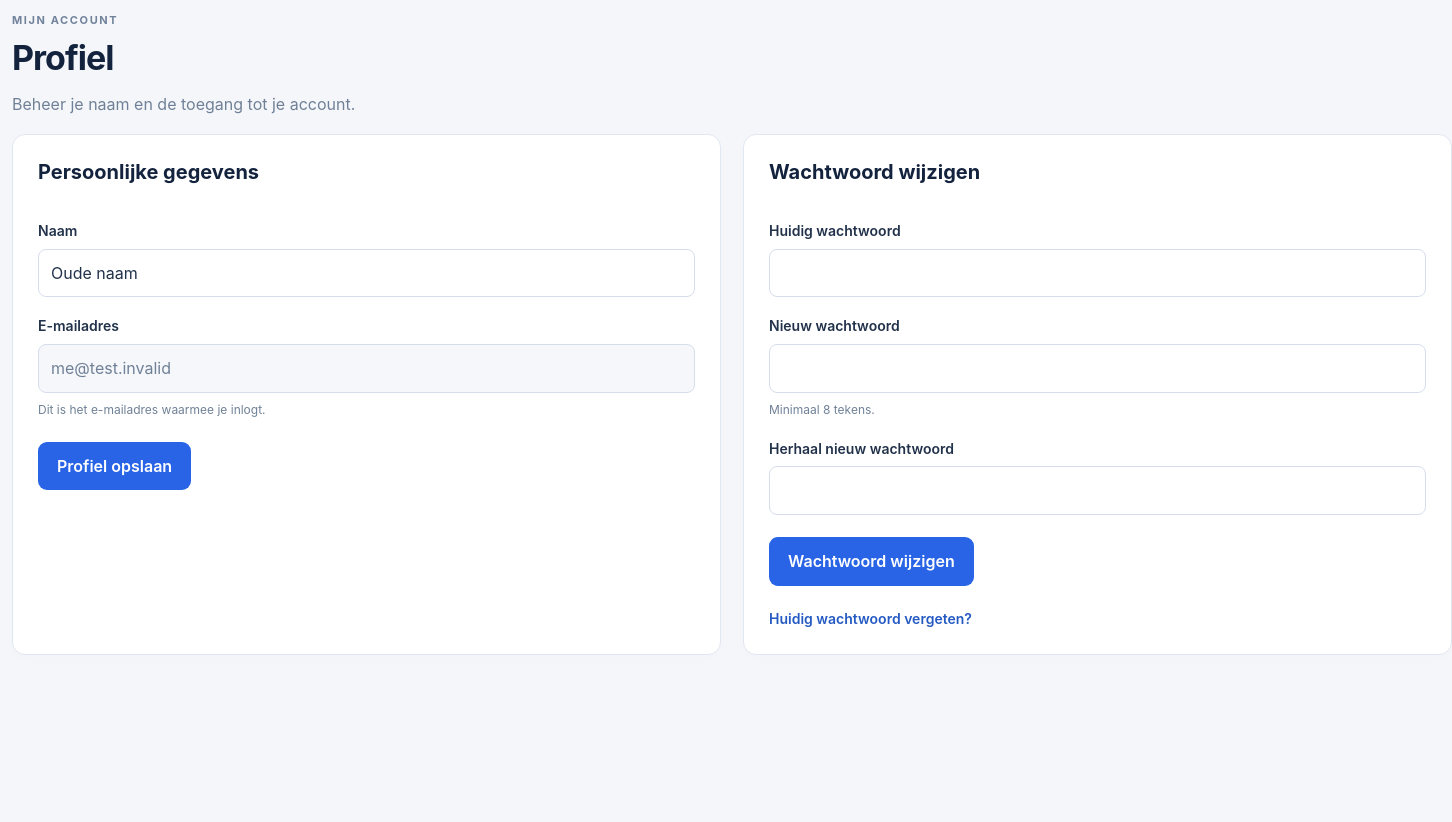
checks the current password before changing it
The width and height of the screenshot is (1452, 822).
Check: the field labelled "Naam" is shown, box [38, 249, 695, 297]
Type "wrong-secret" into the password field labelled "Huidig wachtwoord" at (1098, 273), box [769, 249, 1426, 297]
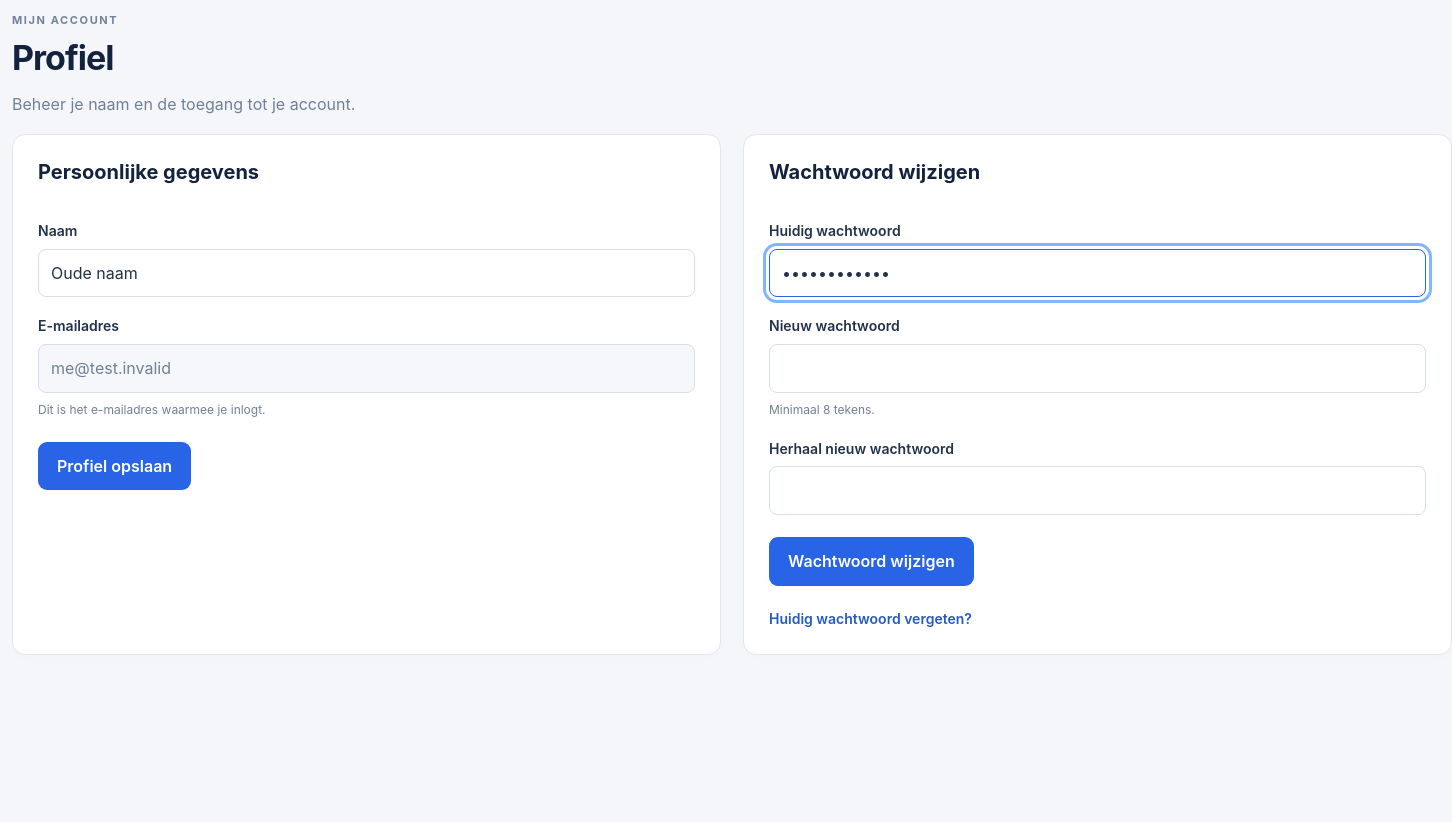
Type "new-secret" into the password field labelled "Nieuw wachtwoord" at (1098, 368), box [769, 344, 1426, 393]
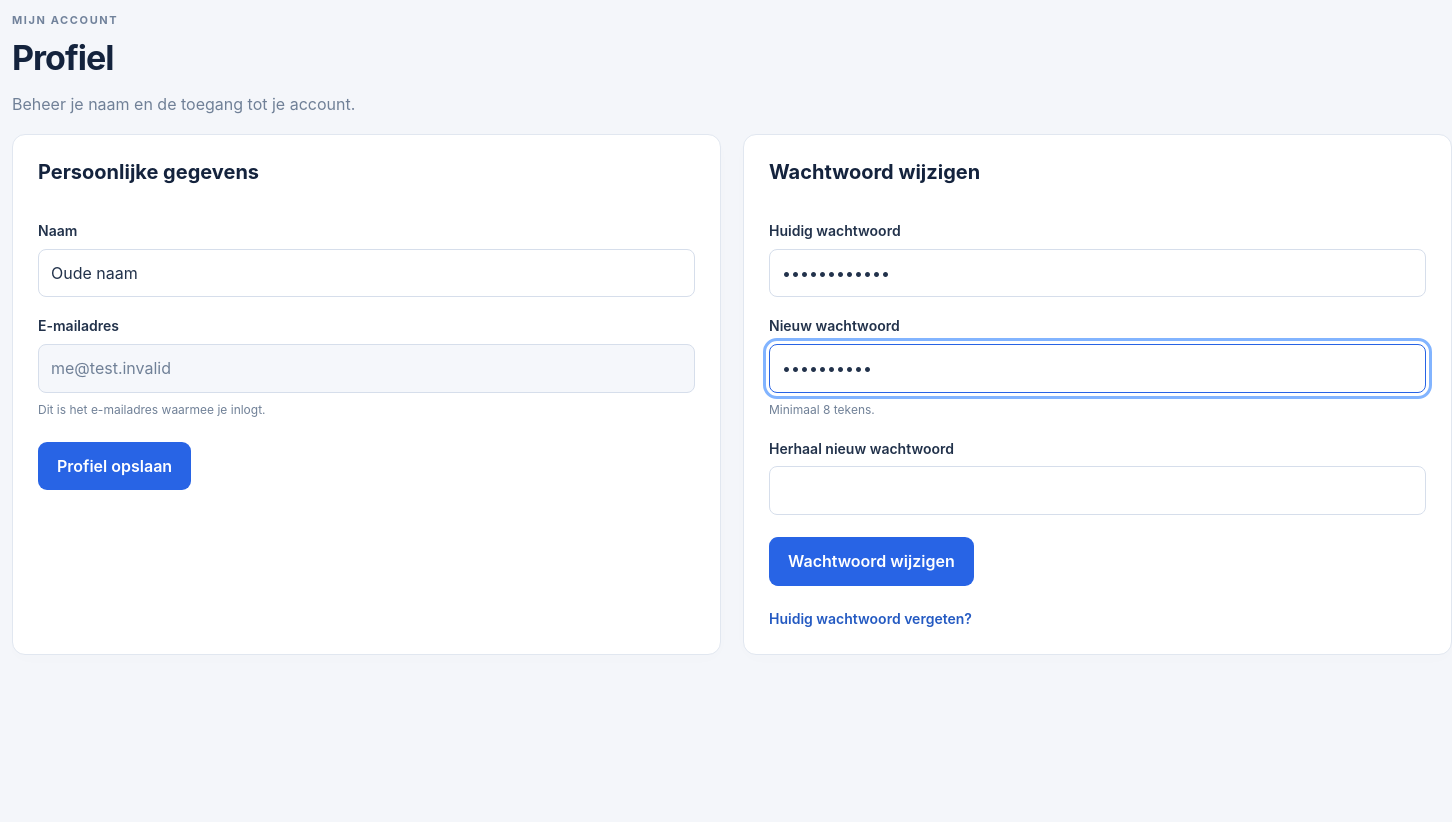
Type "new-secret" into the password field labelled "Herhaal nieuw wachtwoord" at (1098, 491), box [769, 466, 1426, 515]
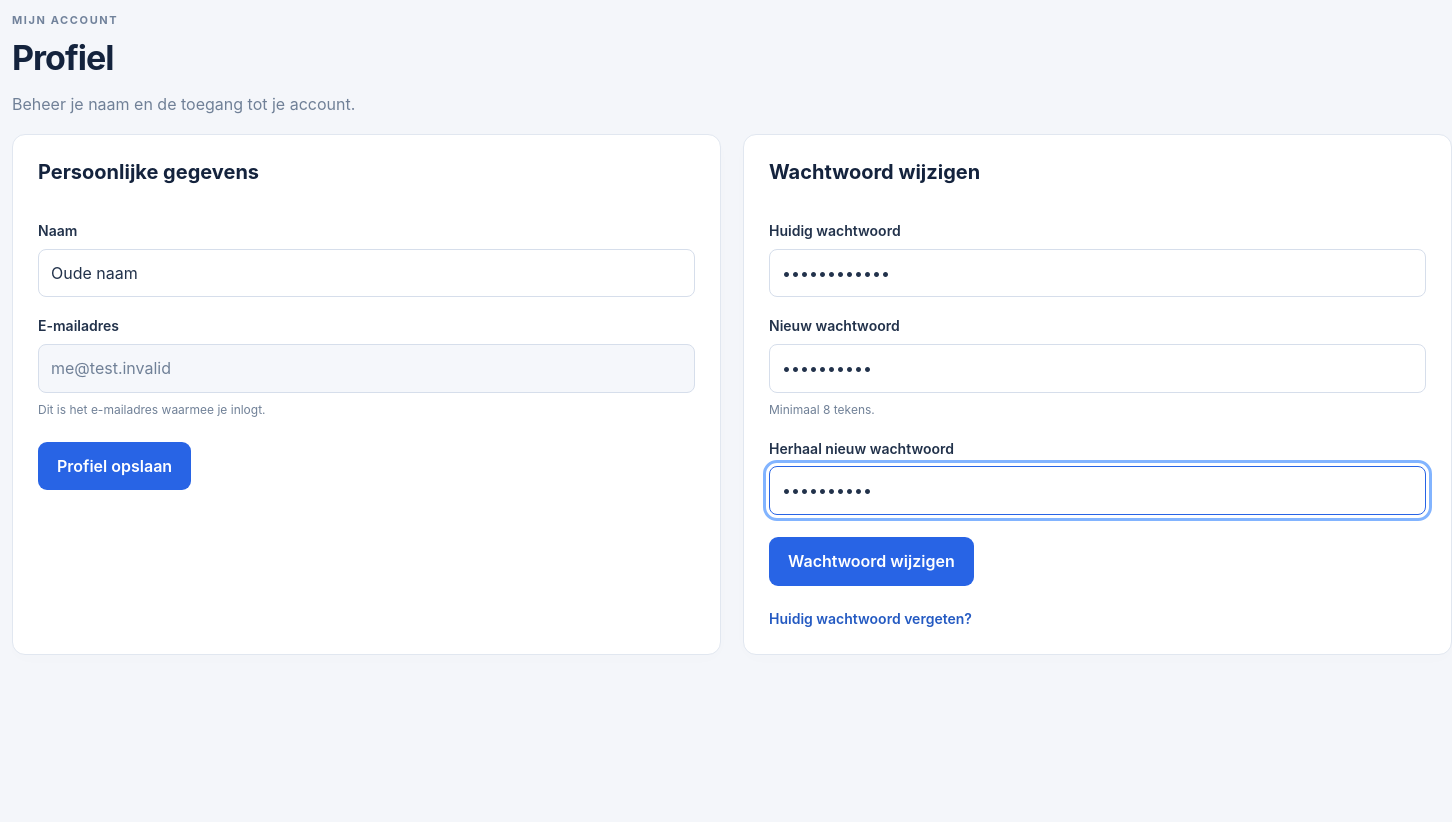
Click the button "Wachtwoord wijzigen" at (871, 561), box [769, 537, 974, 586]
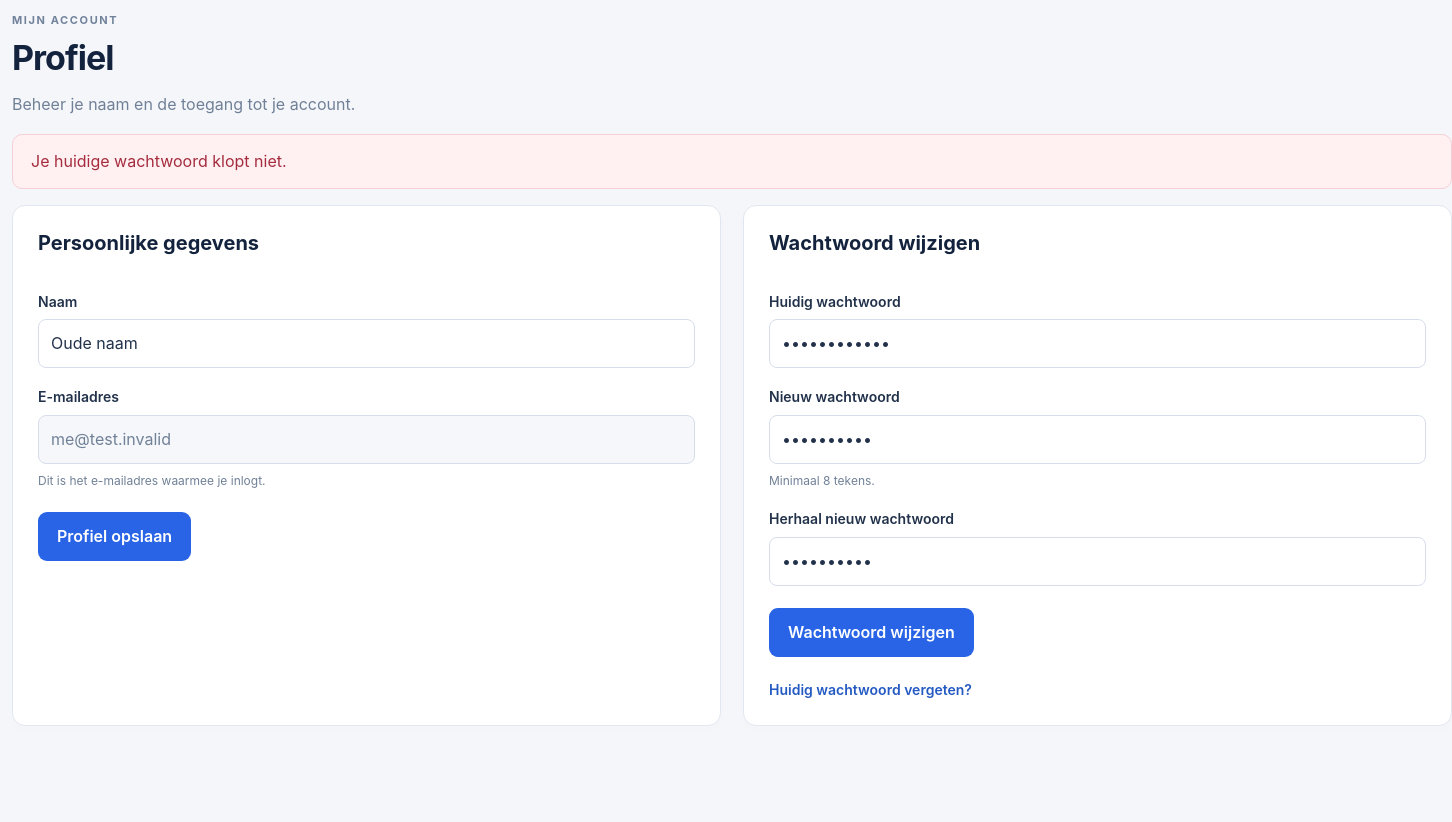
Check: the message reads "Je huidige wachtwoord klopt niet.", box [31, 151, 286, 171]
Type "old-secret" into the password field labelled "Huidig wachtwoord" at (1098, 344), box [769, 319, 1426, 368]
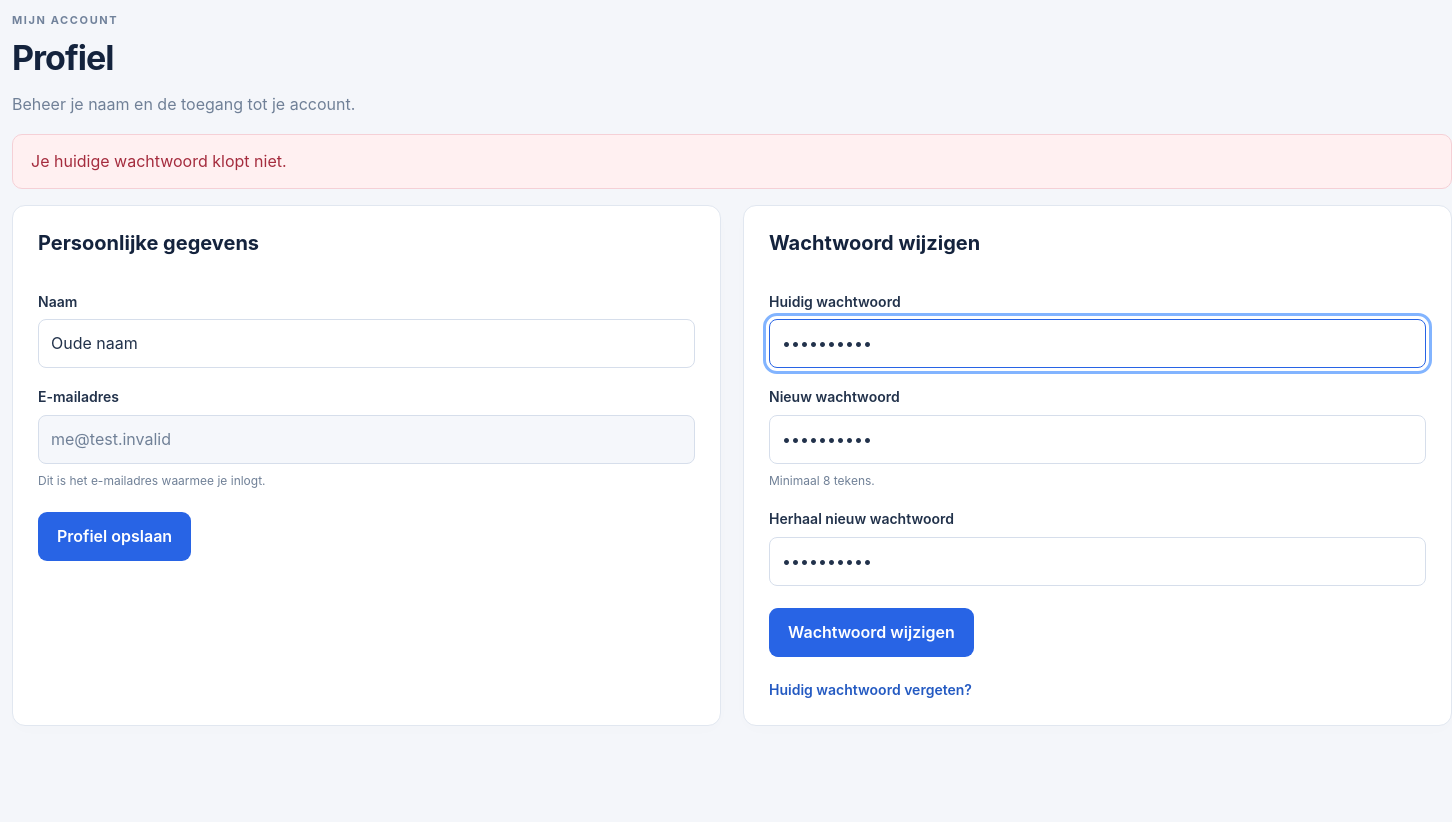
Click the button "Wachtwoord wijzigen" at (871, 632), box [769, 608, 974, 657]
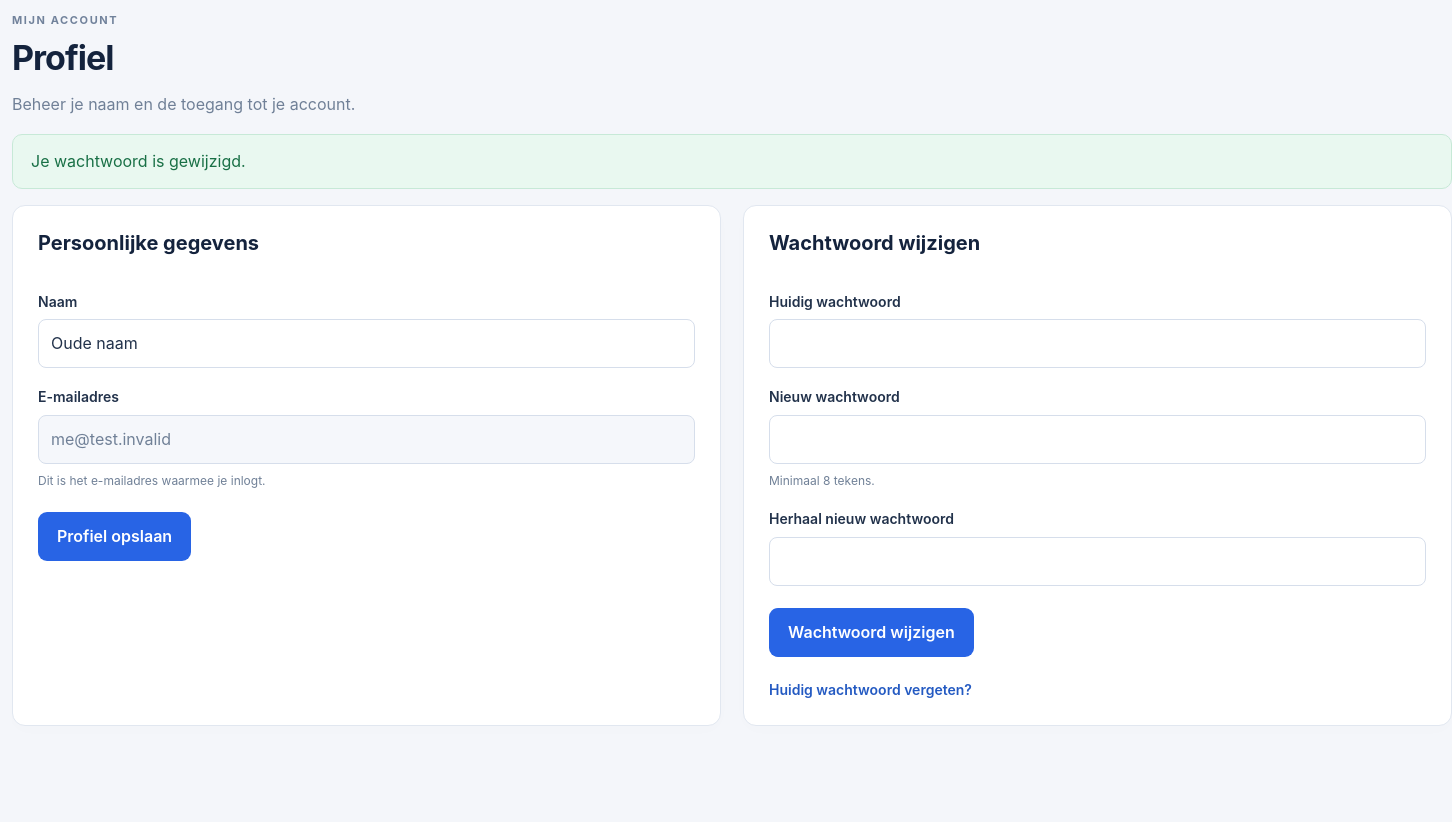
Check: the text "Je wachtwoord is gewijzigd." is shown, box [12, 134, 1451, 189]
Check: the password field labelled "Nieuw wachtwoord" is empty, box [769, 415, 1426, 464]
